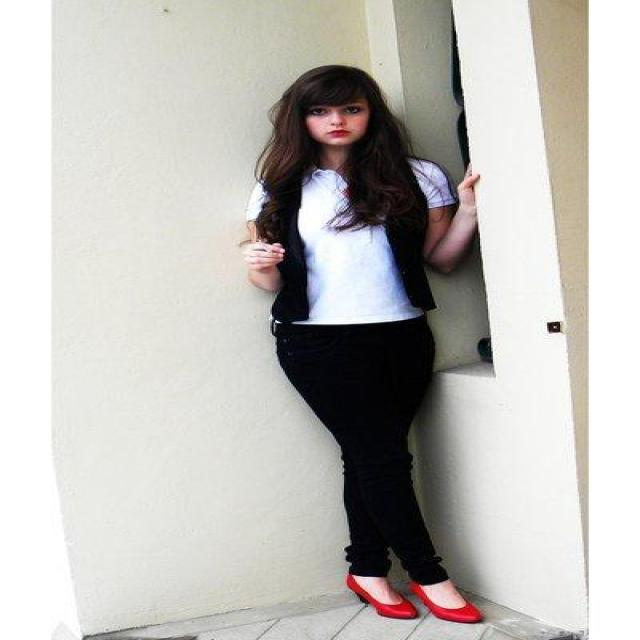jacket: (254, 203, 436, 329)
pants: (272, 320, 448, 585)
shirt: (293, 166, 478, 324)
shoe: (348, 576, 487, 623)
